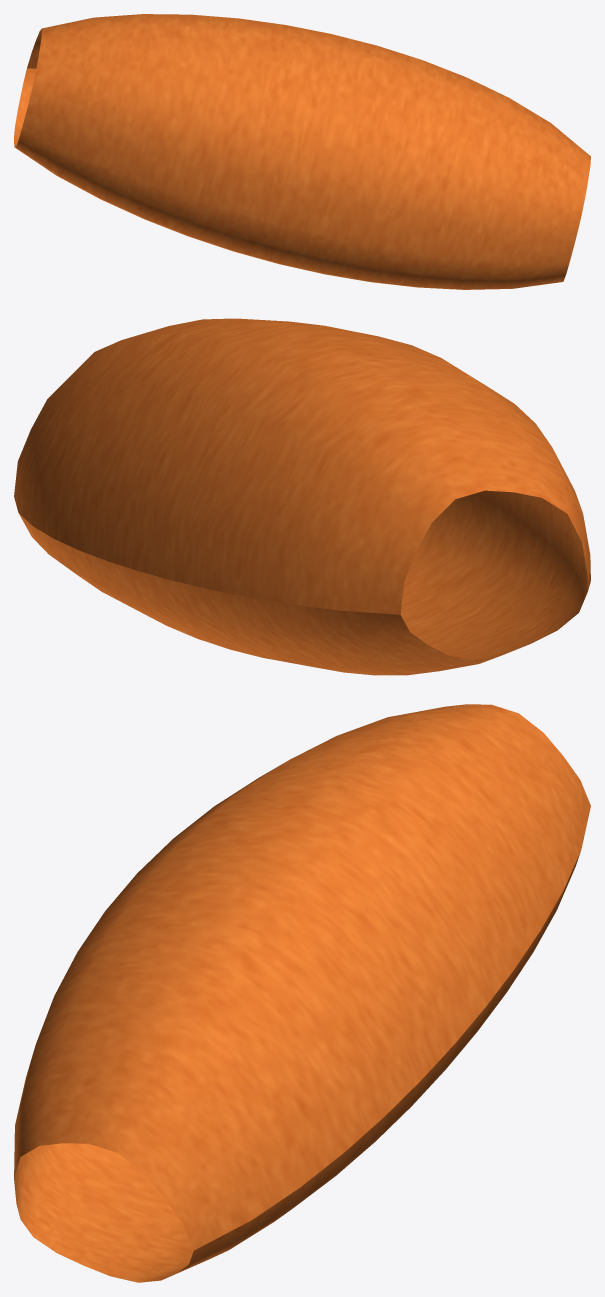
File: 10_Veg_Carrot_Right.obj
3 renders of one model, top to bottom at view 1: azimuth 30°, elevation 25°; view 2: azimuth 150°, elevation 25°; view 3: azimuth 270°, elevation 25°, orthographic. The views are drawn at different scales.
Visible parts, largest first — view 1: 10_Veg_Carrot_Right; view 2: 10_Veg_Carrot_Right; view 3: 10_Veg_Carrot_Right.
Boxes of the visible parts, x1=… form: 10_Veg_Carrot_Right: x1=14, y1=14, x2=590, y2=289; 10_Veg_Carrot_Right: x1=14, y1=318, x2=590, y2=675; 10_Veg_Carrot_Right: x1=14, y1=704, x2=590, y2=1282.
Size of the model in its own units: 0.0613 by 0.0301 by 0.0468.
Materials: 1 (1 with a texture image).
